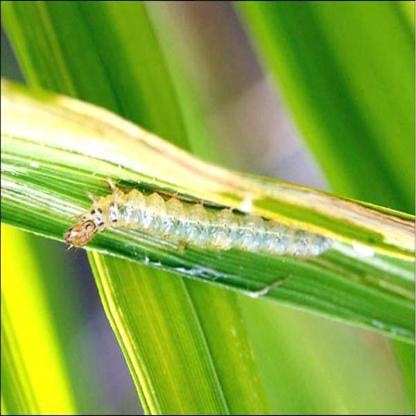leaf-folder: (50, 161, 341, 278)
